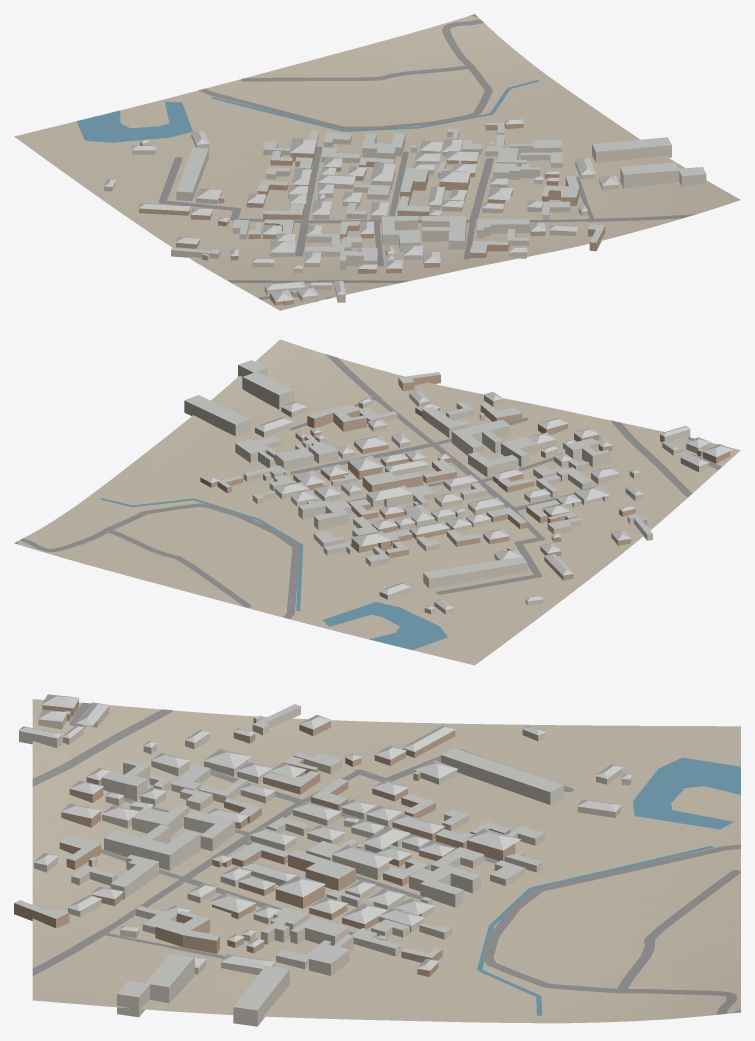
The model's file is bolak_-8_-11.glb.
3 renders of one model, top to bottom at view 1: azimuth 30°, elevation 25°; view 2: azimuth 150°, elevation 25°; view 3: azimuth 270°, elevation 25°, orthographic. The views are drawn at different scales.
Visible parts, largest first — view 1: Yer_Tuproq-col, Tom_Shifer, Devor_Suvoq-col, Yol_Mahalla-col, Devor_Gisht-col, Suv; view 2: Yer_Tuproq-col, Tom_Shifer, Devor_Suvoq-col, Yol_Mahalla-col, Devor_Gisht-col, Suv; view 3: Yer_Tuproq-col, Tom_Shifer, Devor_Suvoq-col, Devor_Gisht-col, Yol_Mahalla-col, Suv.
Part boxes in pixels (x1=…): Yer_Tuproq-col: x1=14, y1=16, x2=740, y2=310; Tom_Shifer: x1=104, y1=119, x2=705, y2=301; Devor_Suvoq-col: x1=104, y1=130, x2=706, y2=302; Yol_Mahalla-col: x1=158, y1=14, x2=695, y2=299; Devor_Gisht-col: x1=139, y1=123, x2=605, y2=305; Suv: x1=76, y1=80, x2=539, y2=142; Yer_Tuproq-col: x1=15, y1=339, x2=740, y2=665; Tom_Shifer: x1=184, y1=360, x2=733, y2=609; Devor_Suvoq-col: x1=184, y1=365, x2=710, y2=614; Yol_Mahalla-col: x1=14, y1=354, x2=721, y2=619; Devor_Gisht-col: x1=200, y1=375, x2=730, y2=580; Suv: x1=100, y1=498, x2=447, y2=649; Yer_Tuproq-col: x1=32, y1=699, x2=740, y2=1023; Tom_Shifer: x1=14, y1=694, x2=632, y2=1010; Devor_Suvoq-col: x1=19, y1=706, x2=631, y2=1026; Devor_Gisht-col: x1=14, y1=700, x2=515, y2=976; Yol_Mahalla-col: x1=32, y1=702, x2=740, y2=1014; Suv: x1=477, y1=757, x2=740, y2=1015.
Size of what is drawn, in the model's own units: 419 by 23.67 by 411.
